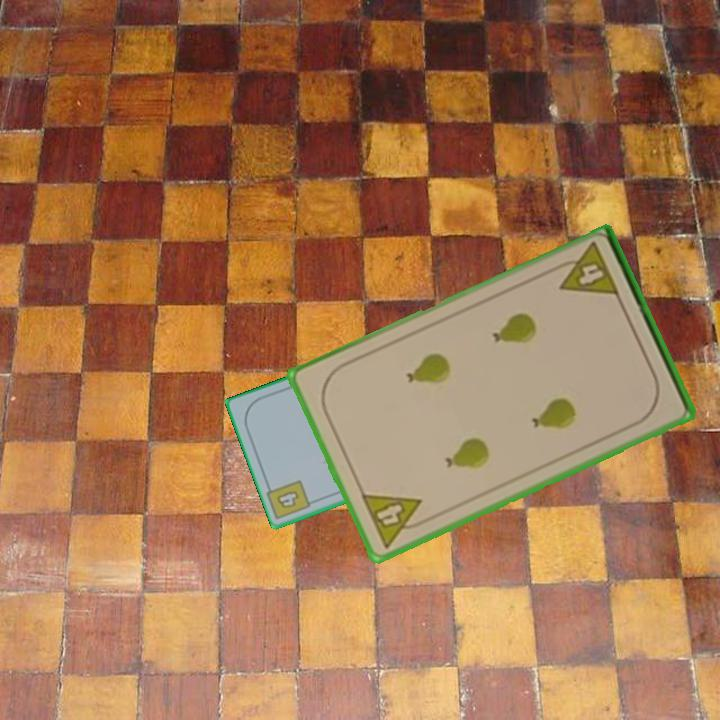4b: (273, 487, 302, 512)
4p: (357, 490, 433, 551), (549, 239, 622, 300)
